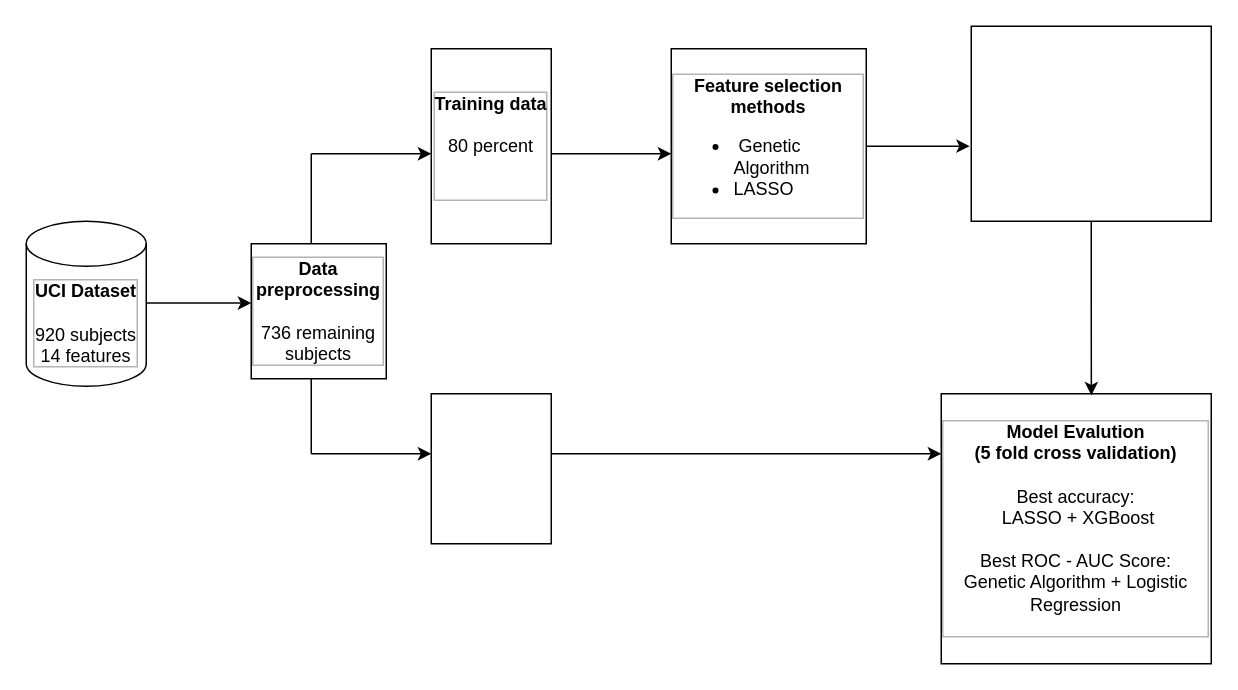
Image size: 1238x690. Some labels were removed from this diagram. Here are the shapes that lost their labels. From the top down, the centre of each, then its label:
[1090,123]: Classification Methods Gradient Boosting XGBoost Logistic Regression SVM
[490,468]: Test data 20 percent
